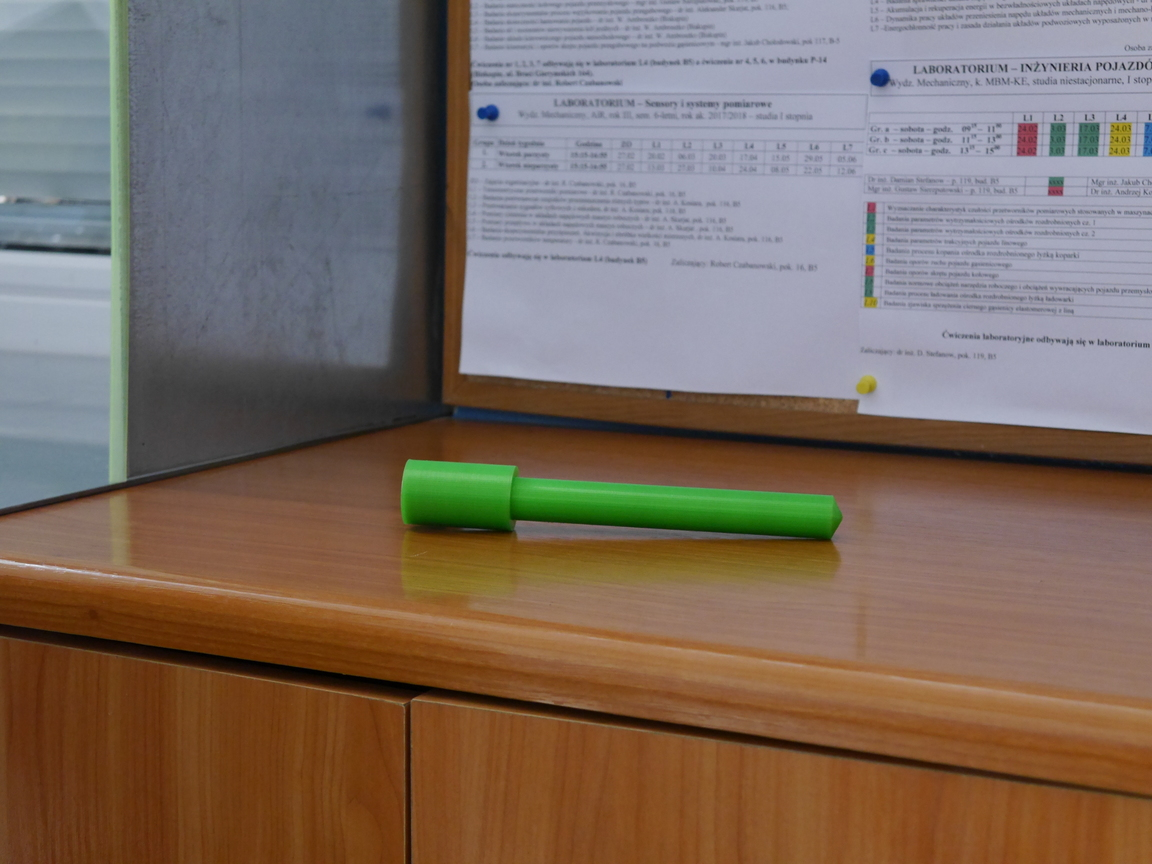cargo_g: (401, 459, 844, 543)
